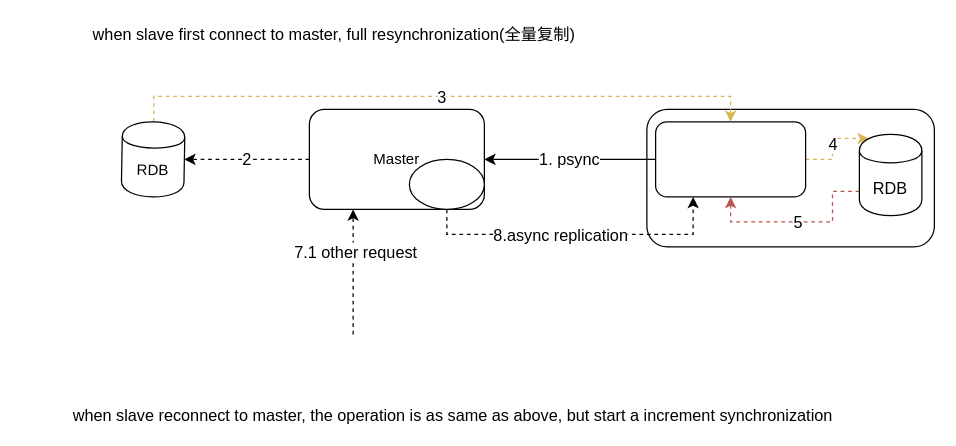
This 956x446 diagram has some shape labels left out. The centre of each missing label's shape, as x and y in pixels:
7.2cache: (x=446, y=183)
Slave: (x=730, y=159)
